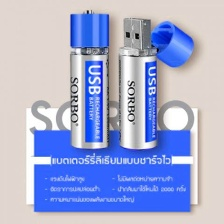battery: (113, 14, 162, 153), (67, 9, 111, 151)
